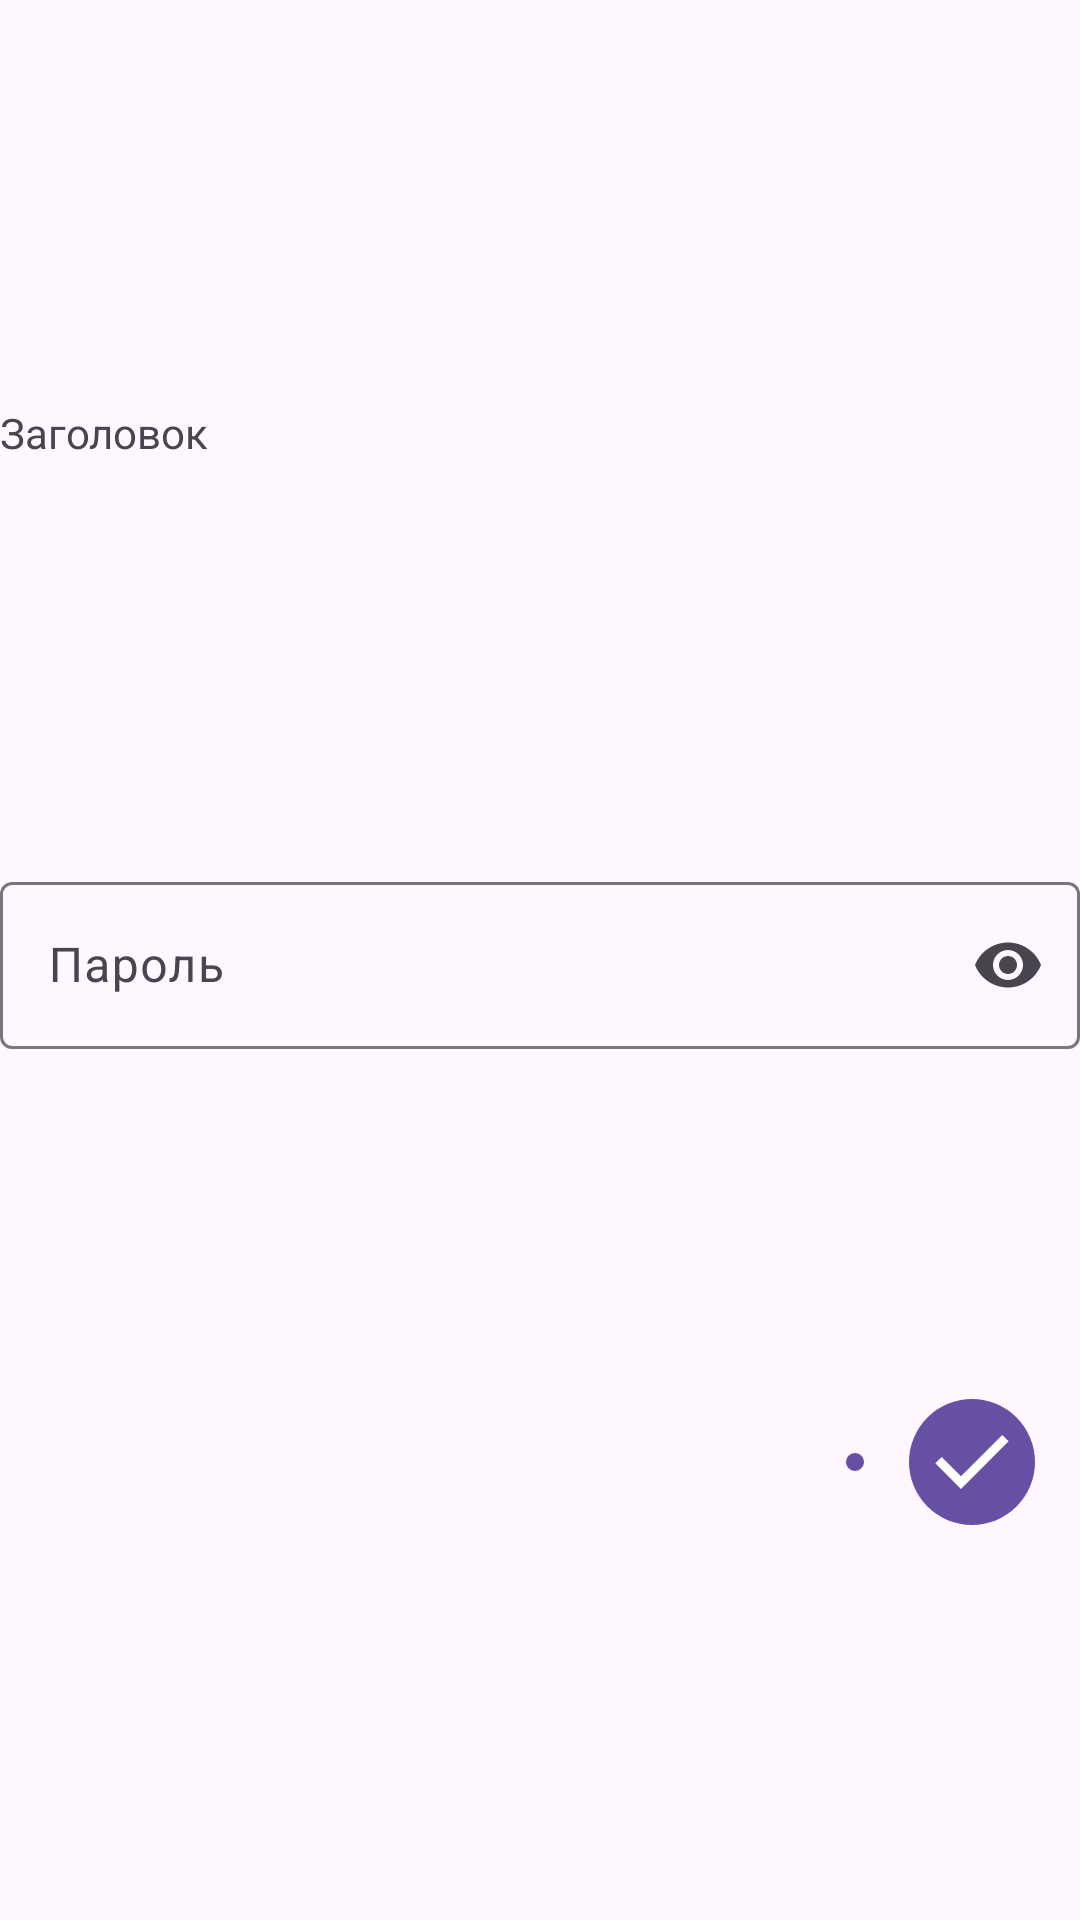

Locate icon controls on the screen. Image size 1080px×1920px, boxes as [x1=x1, y1=y1, x2=x2, y2=y2].
all confirm: [x1=909, y1=1399, x2=1035, y2=1525]
